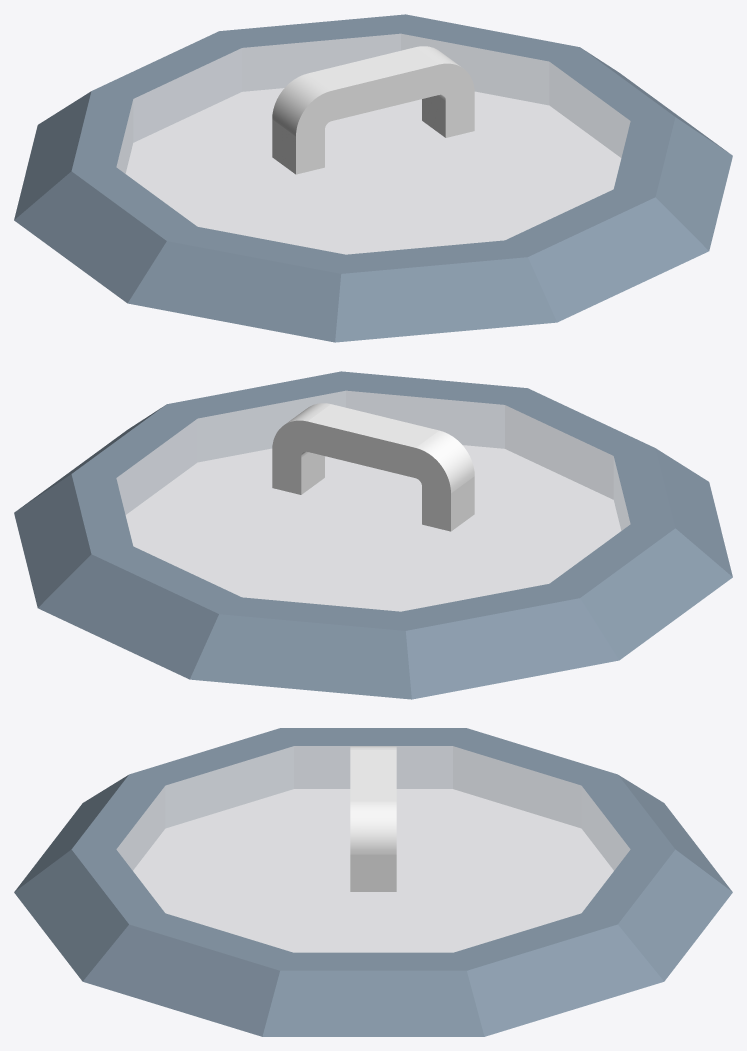
Rendered from fryingPanLid.fbx.
3 renders of one model, top to bottom at view 1: azimuth 30°, elevation 25°; view 2: azimuth 150°, elevation 25°; view 3: azimuth 270°, elevation 25°, orthographic. The views are drawn at different scales.
Parts seen in each view (by area): view 1: fryingPanLid; view 2: fryingPanLid; view 3: fryingPanLid.
Boxes of the visible parts, x1=… form: fryingPanLid: x1=14, y1=14, x2=732, y2=342; fryingPanLid: x1=14, y1=371, x2=732, y2=699; fryingPanLid: x1=14, y1=728, x2=732, y2=1036.
Size of the model in its own units: 5.77 by 1.08 by 6.06.
